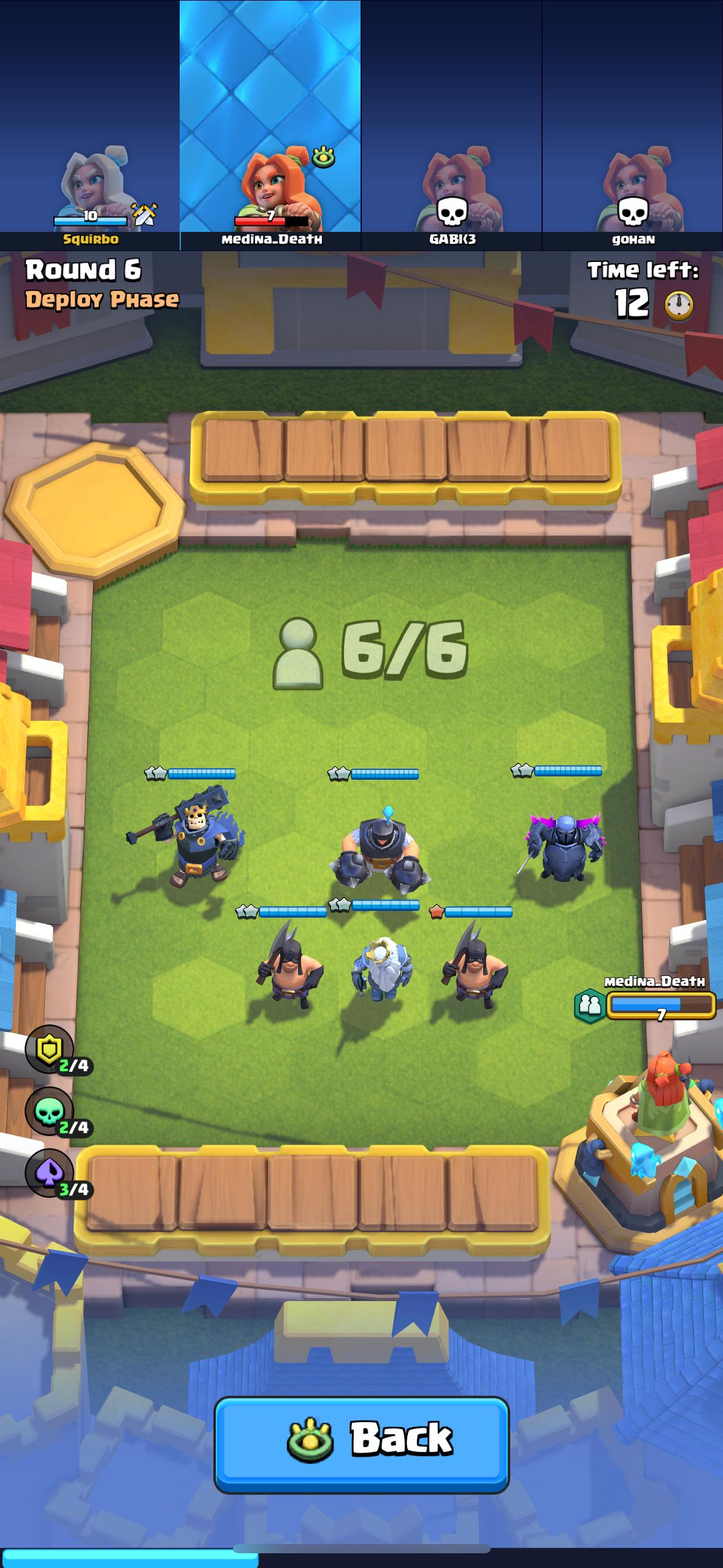executioner: (251, 925, 328, 1012), (446, 925, 512, 1014)
ghost: (344, 927, 418, 1008)
king: (152, 784, 249, 889)
mega: (335, 805, 431, 898)
pekka: (522, 802, 609, 892)
